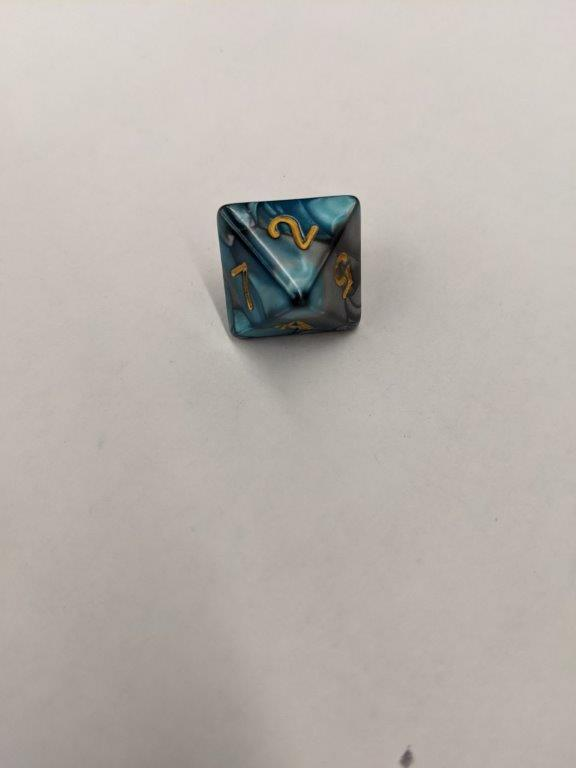d8-2: (216, 192, 362, 340)
